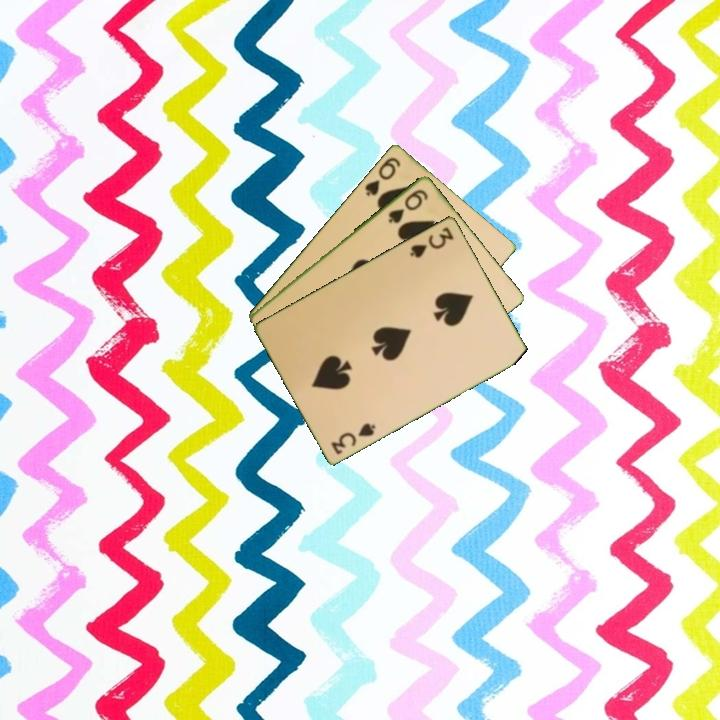3s: (328, 419, 379, 457), (406, 223, 457, 260)
6s: (361, 153, 403, 199), (385, 185, 431, 226)
